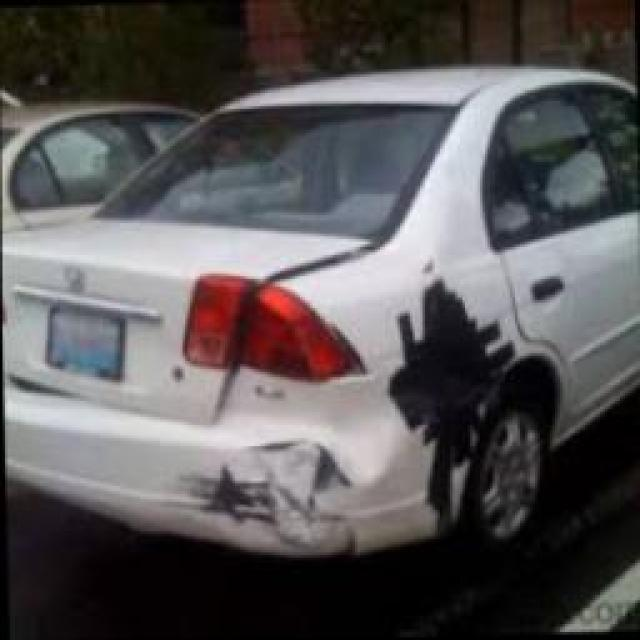Bumper: (3, 391, 418, 567)
Dickey: (1, 217, 364, 430)
Fender: (287, 189, 539, 552)
